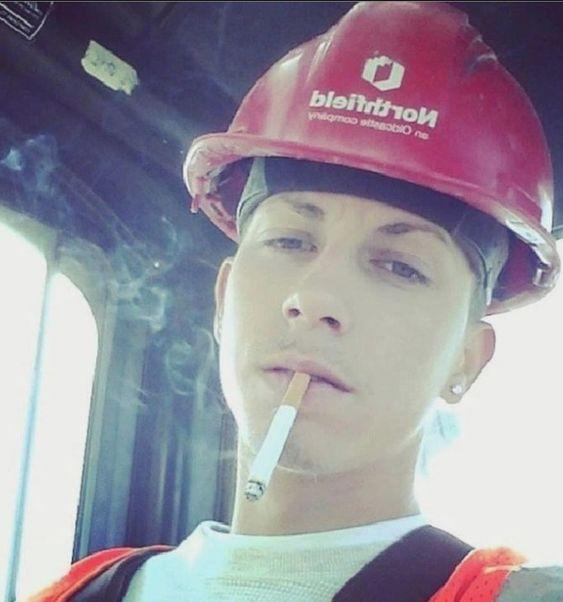cigarette: (243, 372, 313, 503)
